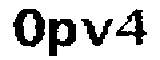0: (11, 7, 46, 48)
4: (115, 8, 151, 51)
p: (47, 19, 79, 60)
v: (80, 16, 111, 50)
